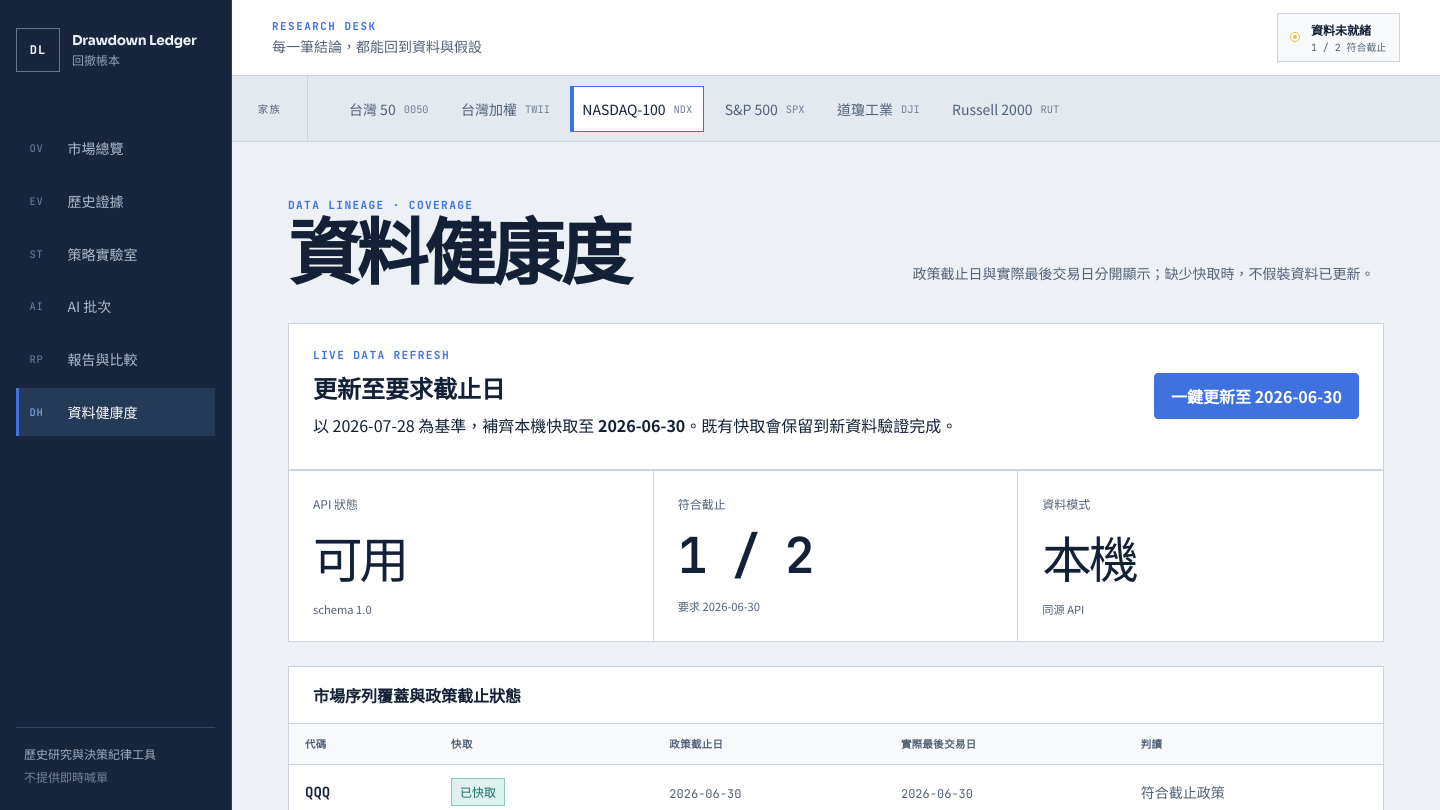
Test case: data health route › shows the provider detail under per-symbol update errors
The image size is (1440, 810).
Click the button "一鍵更新至 2026-06-30".
click(1256, 396)  # box [1154,373,1359,420]
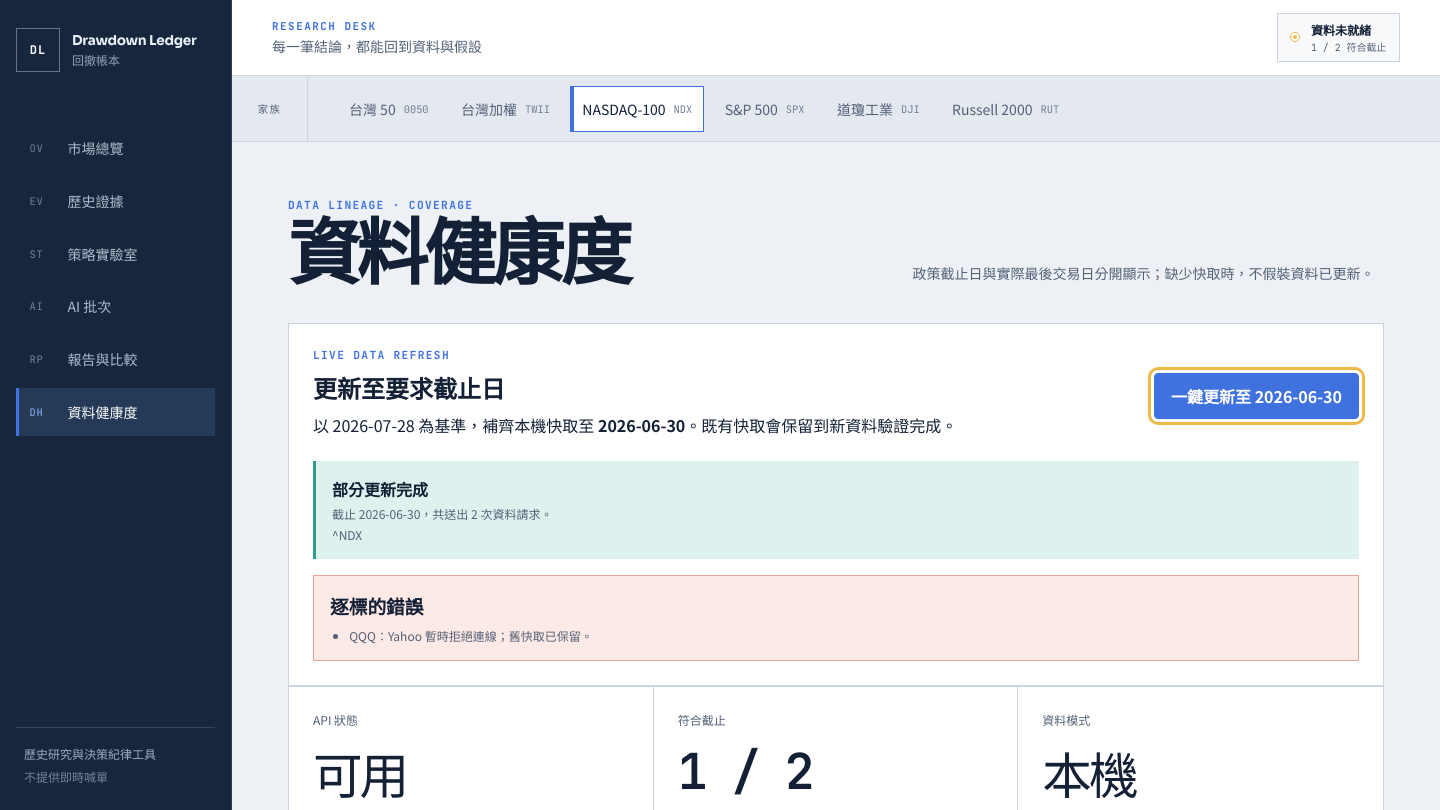
Expected: the heading "逐標的錯誤" is shown, [330,596,424,618]
Expected: the list item "QQQ：Yahoo 暫時拒絕連線；舊快取已保留。" is shown, [349,626,593,644]
